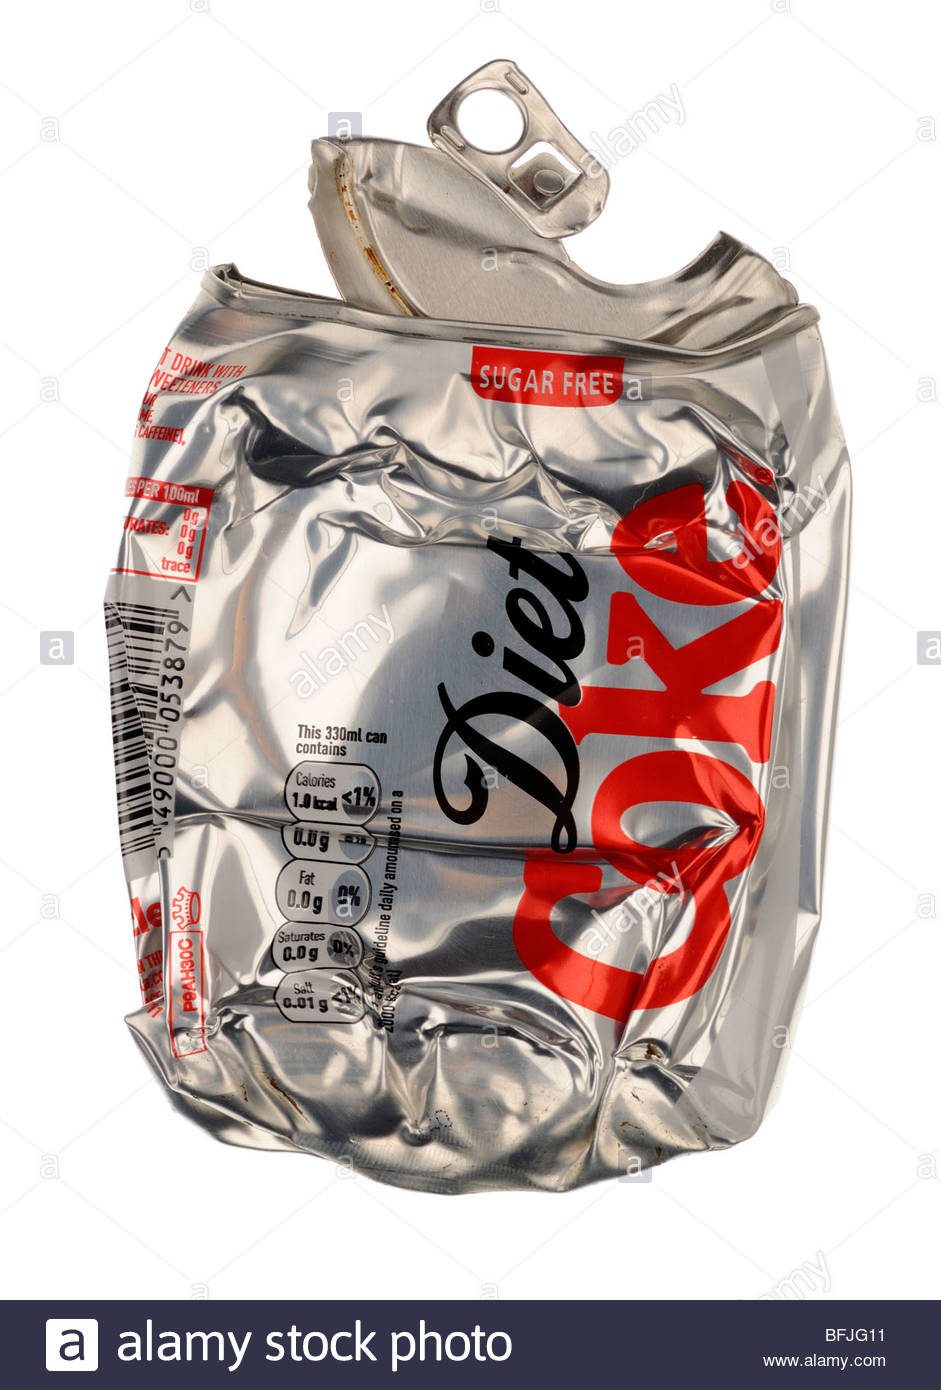can: (99, 55, 854, 1198)
